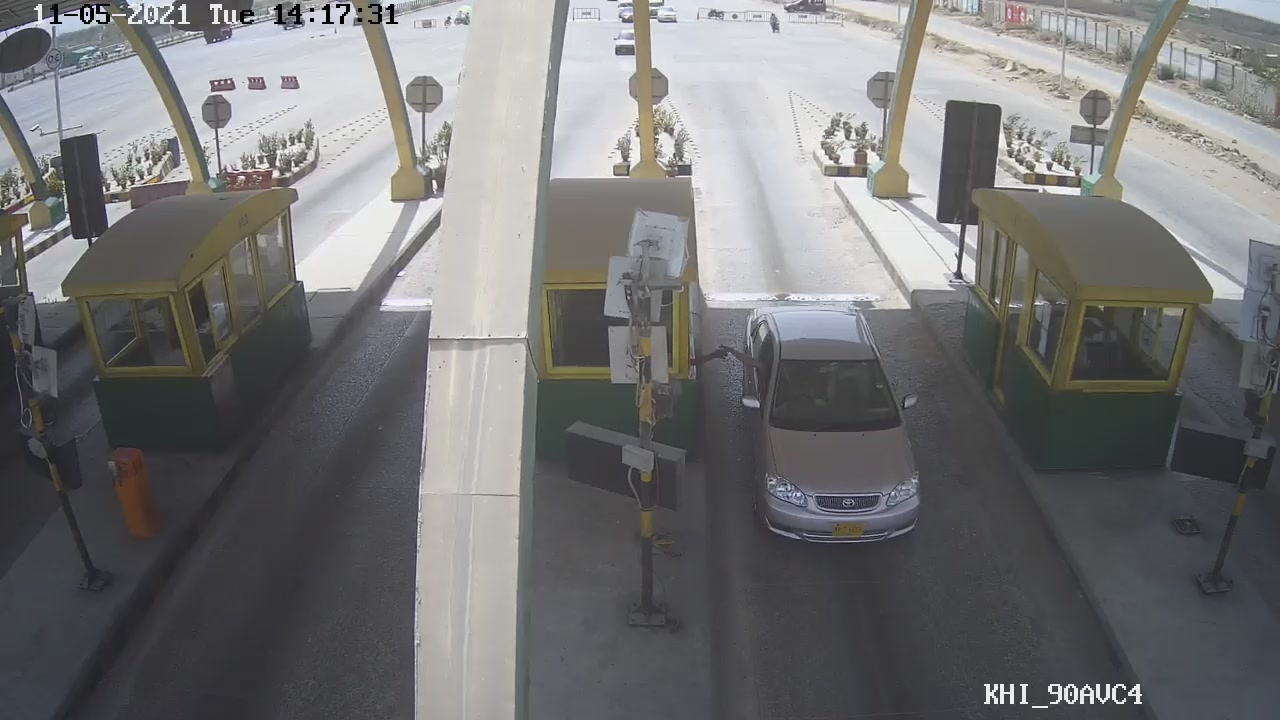F1: (733, 292, 921, 549)
